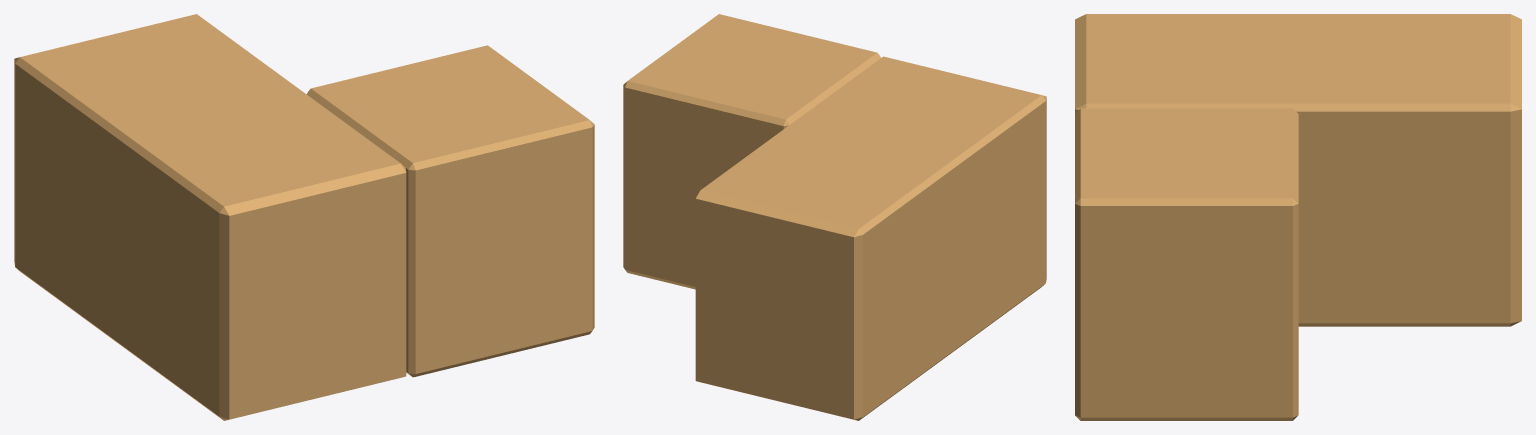
Rendered from wall_corner_L.glb.
3 views of the same model, side by side, from view 1: azimuth 30°, elevation 25°; view 2: azimuth 150°, elevation 25°; view 3: azimuth 270°, elevation 25° (orthographic). The views are drawn at different scales.
Parts seen in each view (by area): view 1: Corner long arm.001, Corner short arm.001; view 2: Corner long arm.001, Corner short arm.001; view 3: Corner long arm.001, Corner short arm.001.
Boxes of the visible parts, x1,y1,x2,y2 form: Corner long arm.001: [14, 14, 406, 420]; Corner short arm.001: [306, 45, 594, 377]; Corner long arm.001: [695, 56, 1046, 420]; Corner short arm.001: [623, 14, 880, 289]; Corner long arm.001: [1075, 14, 1521, 326]; Corner short arm.001: [1075, 108, 1298, 420].
Bounding box in the file's own units: 2 × 1.1 × 2.
